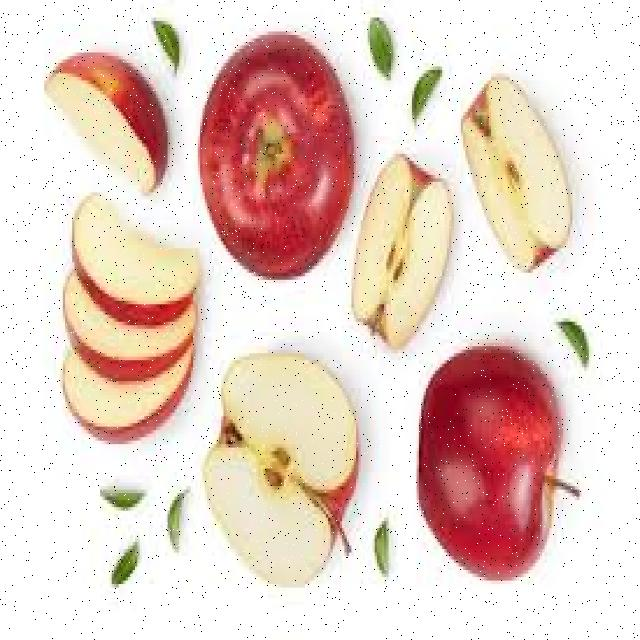Apple: (416, 350, 582, 584), (199, 31, 353, 282), (205, 359, 356, 587), (461, 75, 570, 281), (355, 158, 454, 348), (44, 53, 168, 200), (73, 195, 202, 318), (48, 273, 196, 375), (52, 360, 193, 444)
